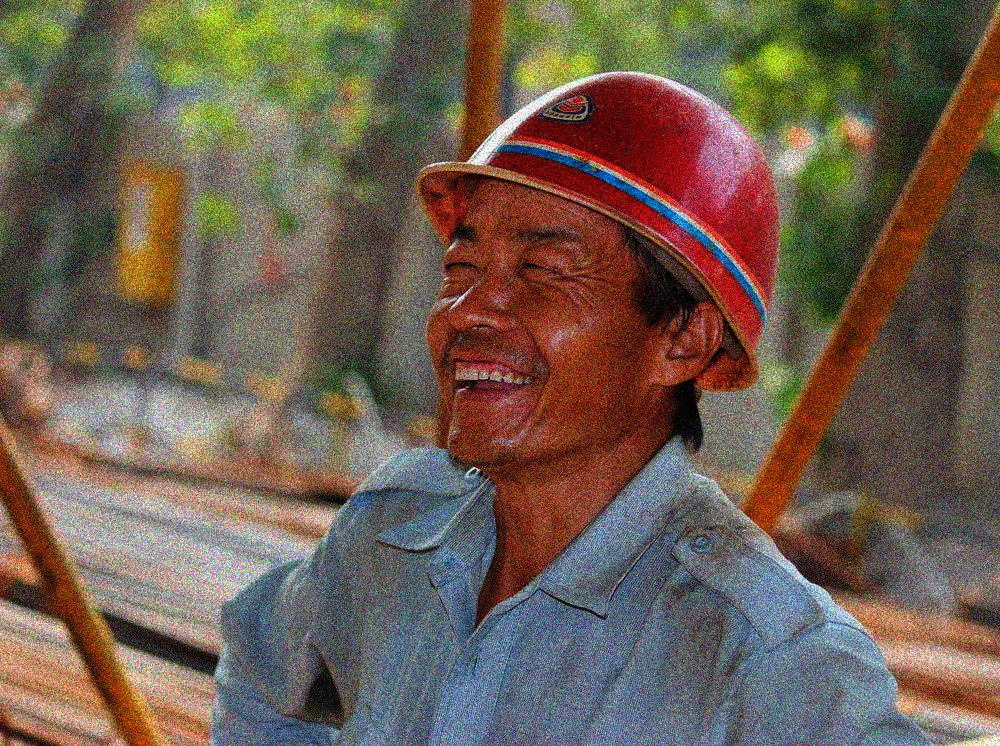helmet: (409, 64, 787, 475)
